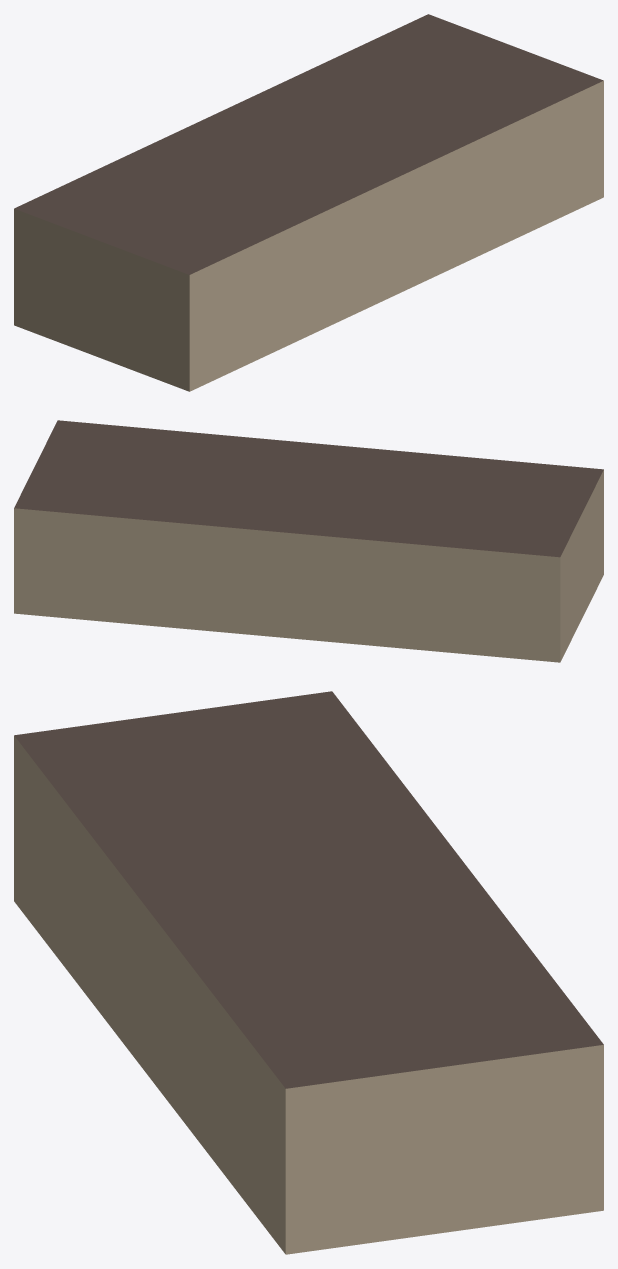
3 renders of one model, top to bottom at view 1: azimuth 30°, elevation 25°; view 2: azimuth 150°, elevation 25°; view 3: azimuth 270°, elevation 25°, orthographic. The views are drawn at different scales.
Parts seen in each view (by area): view 1: HP-w859457482; view 2: HP-w859457482; view 3: HP-w859457482.
Boxes of the visible parts, x1,y1,x2,y2 form: HP-w859457482: (14,14,603,391); HP-w859457482: (14,420,603,662); HP-w859457482: (14,691,603,1254).
Size of the model in its own units: 46.25 by 9 by 29.
